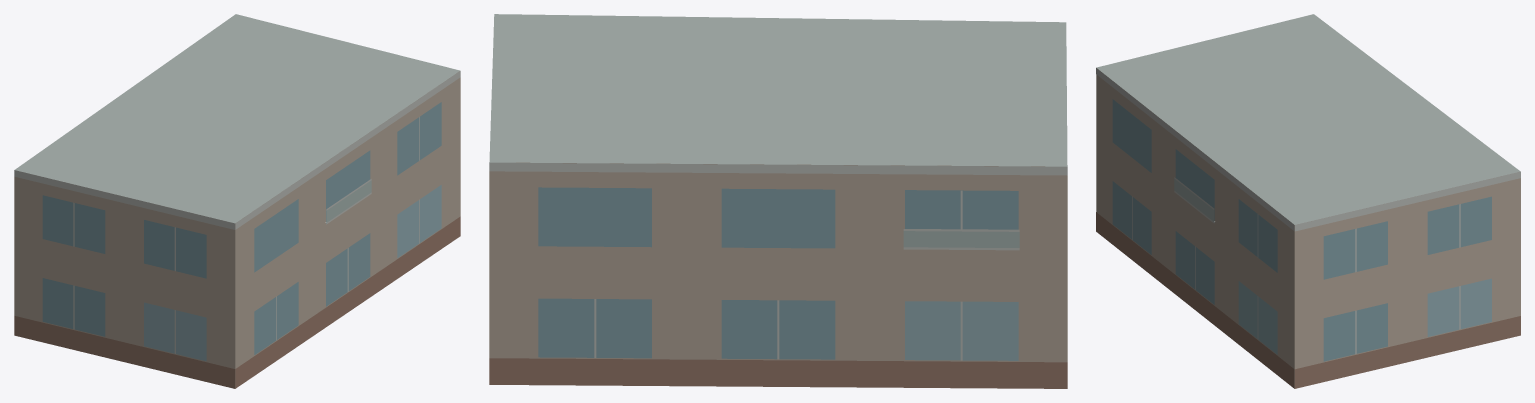
File: survey-upis-32744778.glb
The picture shows the model from 3 angles, left to right: view 1: azimuth 30°, elevation 25°; view 2: azimuth 150°, elevation 25°; view 3: azimuth 270°, elevation 25°; orthographic projection. The views are drawn at different scales.
Visible parts, largest first — view 1: survey-upis-32744778.tmp; view 2: survey-upis-32744778.tmp; view 3: survey-upis-32744778.tmp.
Boxes of the visible parts, bbox=[...] form: survey-upis-32744778.tmp: bbox=[14, 14, 460, 388]; survey-upis-32744778.tmp: bbox=[489, 14, 1067, 388]; survey-upis-32744778.tmp: bbox=[1096, 14, 1520, 388].
Size of the model in its own units: 16.85 by 6.1 by 14.34.
